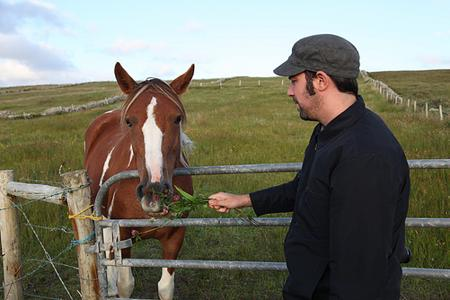person: (209, 32, 410, 299)
